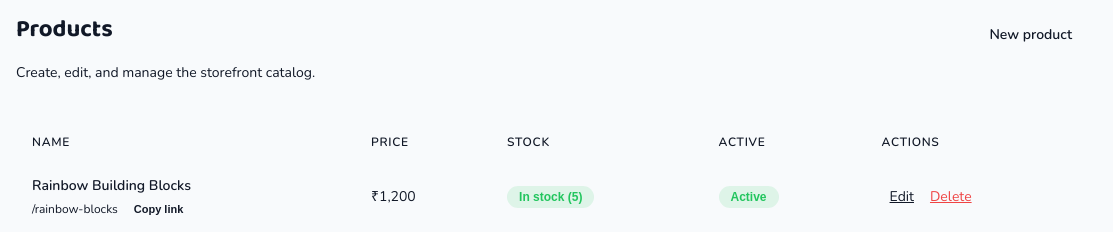
Test: Admin ProductsPage (Req 16) › deletes a product via DELETE after confirmation (Req 16.5)
This screenshot has width=1113, height=232.
Expected: the text "Rainbow Building Blocks" is shown, [32,176,191,195]
Click the button "Delete" at (951, 196), box [922,183,980,210]
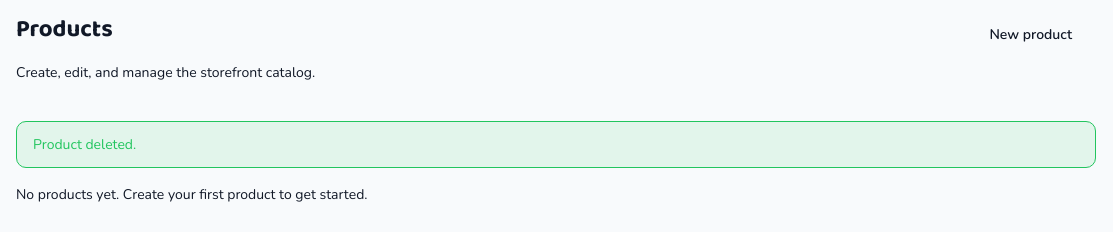
Now the text "Rainbow Building Blocks" is gone
